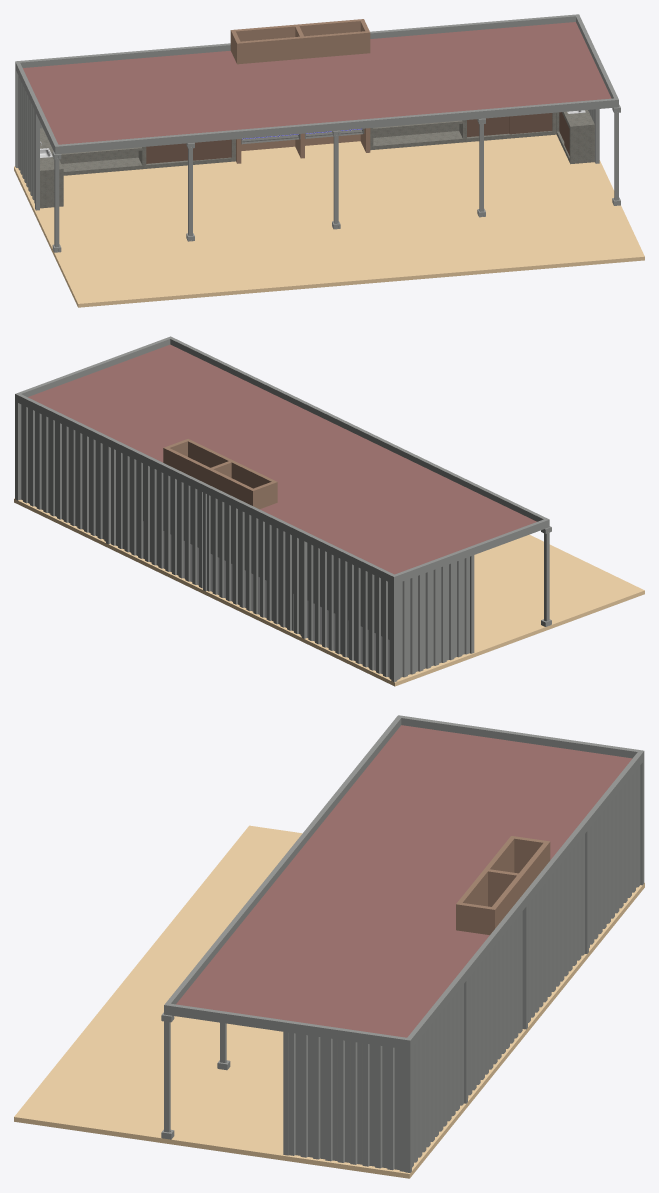
File: casa_club_tlm.glb
3 views of the same model, one above another, from view 1: azimuth 30°, elevation 25°; view 2: azimuth 150°, elevation 25°; view 3: azimuth 270°, elevation 25° (orthographic). The views are drawn at different scales.
Parts seen in each view (by area): view 1: casa.club; view 2: casa.club; view 3: casa.club.
Part boxes in pixels (x1=…): casa.club: x1=14, y1=14, x2=644, y2=307; casa.club: x1=14, y1=336, x2=644, y2=686; casa.club: x1=14, y1=715, x2=644, y2=1178.
Size of the model in its own units: 15.78 by 3.3 by 12.07.
Materials: 16 (4 with a texture image).
